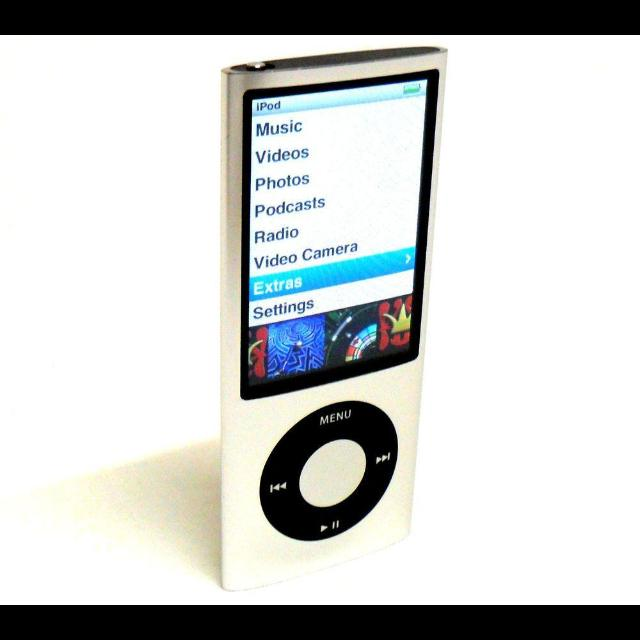Music-Player: (218, 35, 454, 593)
